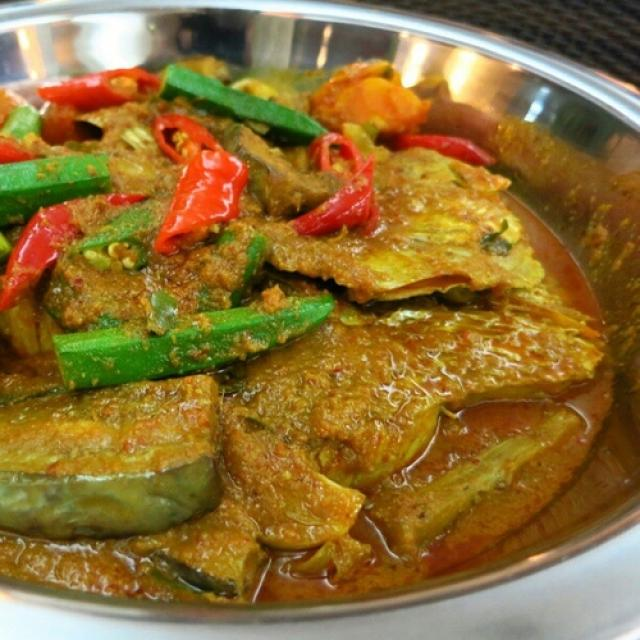熟制海鲜: (22, 18, 609, 613)
